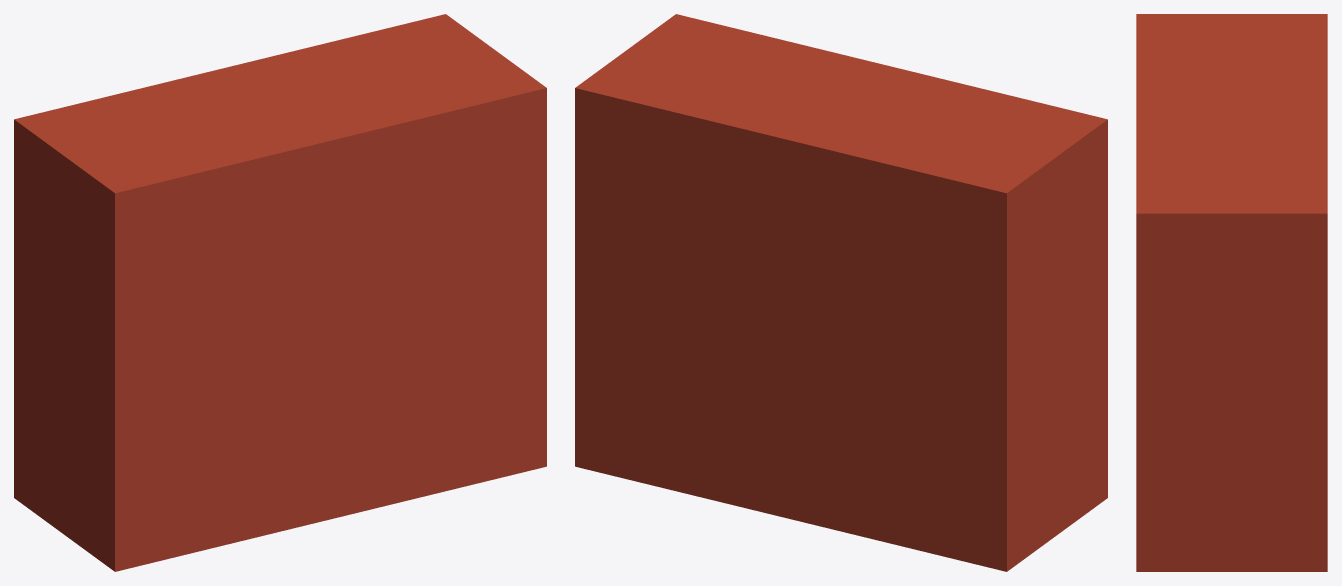
The model's file is character-monki.glb.
3 renders of one model, left to right at view 1: azimuth 30°, elevation 25°; view 2: azimuth 150°, elevation 25°; view 3: azimuth 270°, elevation 25°, orthographic. The views are drawn at different scales.
Parts seen in each view (by area): view 1: Monki; view 2: Monki; view 3: Monki.
Part boxes in pixels (x1,y1,x2,y2): Monki: (14,14,546,571); Monki: (575,14,1107,571); Monki: (1136,14,1327,571).
Size of the model in its own units: 0.74 by 0.62 by 0.3.
